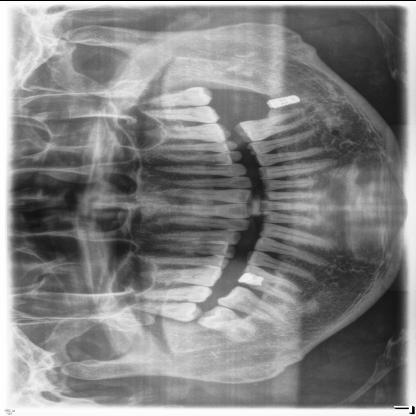ITI: (260, 92, 306, 112)
